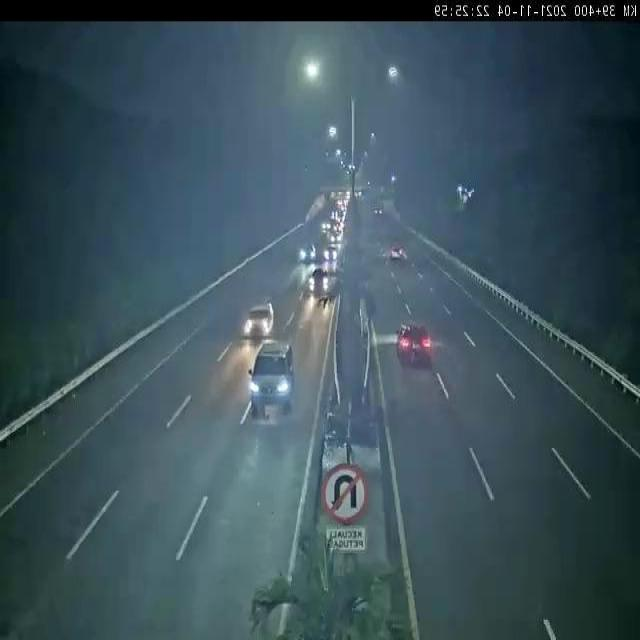Car: (243, 340, 306, 427), (243, 290, 286, 345), (392, 317, 430, 368), (302, 265, 339, 309), (380, 233, 416, 271), (296, 238, 324, 268), (321, 241, 342, 266)
